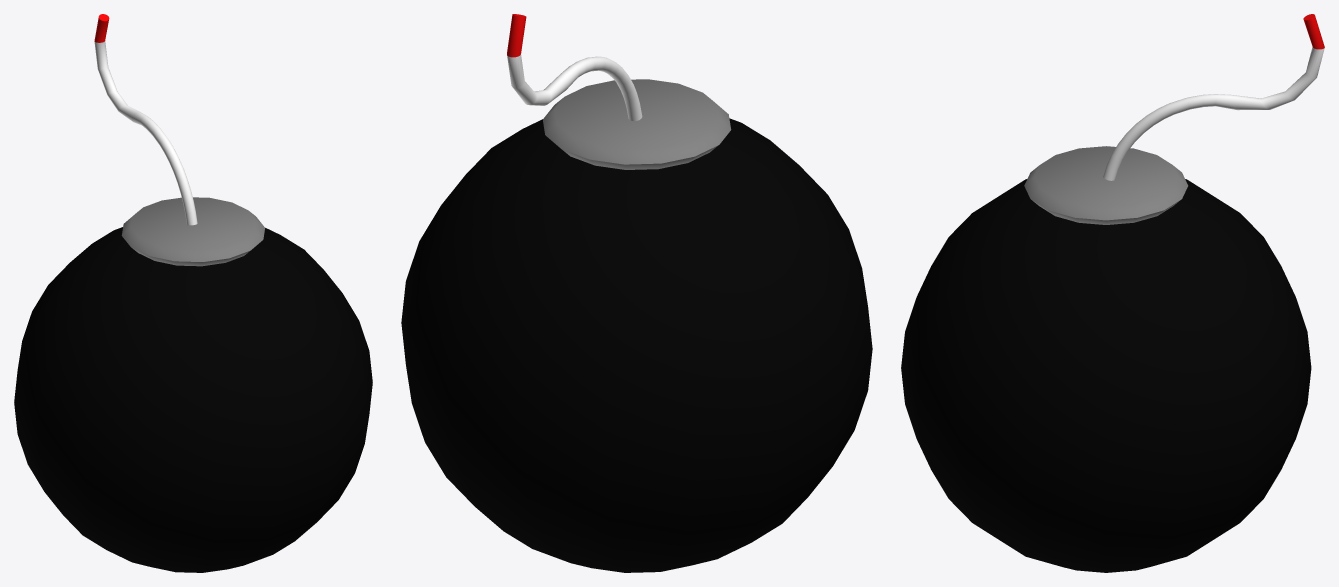
The model's file is bomb.fbx.
The picture shows the model from 3 angles, left to right: view 1: azimuth 30°, elevation 25°; view 2: azimuth 150°, elevation 25°; view 3: azimuth 270°, elevation 25°; orthographic projection. The views are drawn at different scales.
Parts seen in each view (by area): view 1: obj1, obj3, obj2; view 2: obj1, obj3, obj2; view 3: obj1, obj3, obj2.
Boxes of the visible parts, bbox=[...] form: obj1: bbox=[14, 227, 372, 572]; obj3: bbox=[121, 197, 264, 266]; obj2: bbox=[94, 14, 197, 225]; obj1: bbox=[401, 118, 872, 572]; obj3: bbox=[542, 79, 731, 169]; obj2: bbox=[507, 14, 642, 121]; obj1: bbox=[901, 179, 1311, 572]; obj3: bbox=[1024, 146, 1188, 224]; obj2: bbox=[1103, 14, 1324, 180].
Size of the model in its own units: 200 by 290 by 207.
